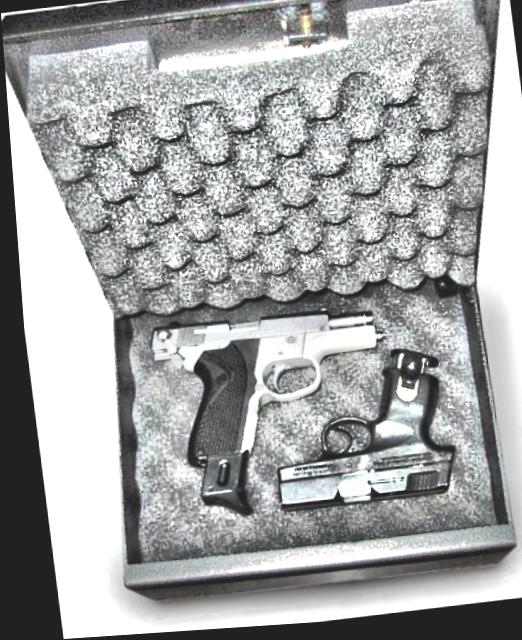pistol: (144, 302, 391, 470), (255, 366, 468, 514)
